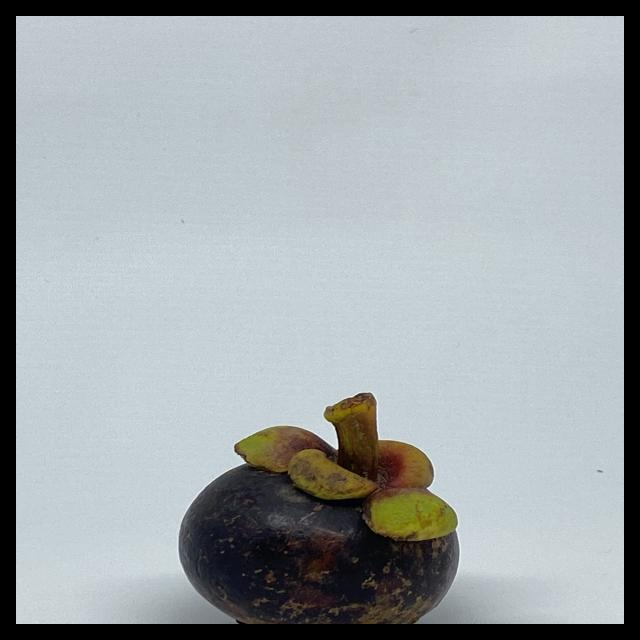mangosteen: (156, 363, 484, 624)
